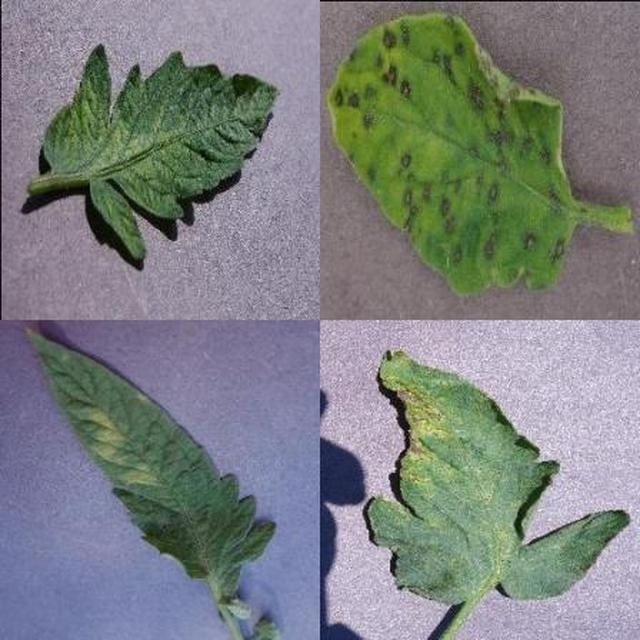Mosaic Virus Leaf: (217, 216, 640, 640)
